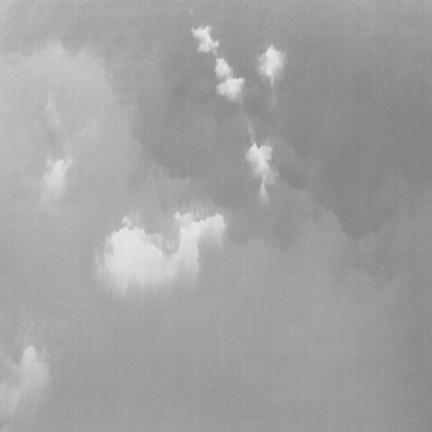flukeprints: (246, 143, 276, 204), (258, 45, 285, 87), (192, 25, 219, 56), (217, 78, 244, 102), (215, 58, 232, 79)
